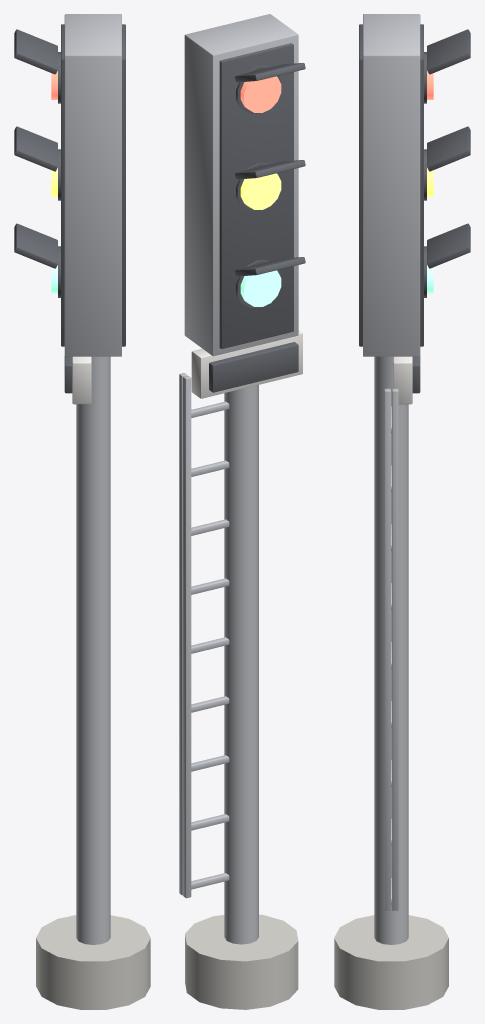
File: th41_signal.glb
3 renders of one model, left to right at view 1: azimuth 90°, elevation 25°; view 2: azimuth 210°, elevation 25°; view 3: azimuth 270°, elevation 25°, orthographic.
Parts seen in each view (by area): view 1: Cube.012, Cylinder, Cylinder.001, Cube.011, Cube.013, Cube.014, Cube.015, Cube.016; view 2: Cylinder, Cube.011, Cube.012, Cylinder.001, Cube.010, Cube.017, Cube.009, Cube.016, Cylinder.004, Cylinder.006, Cylinder.002, Cube.014 (+11 smaller); view 3: Cube.012, Cylinder, Cylinder.001, Cube.009, Cube.010, Cube.011, Cube.013, Cube.014, Cube.015, Cube.016.
Part boxes in pixels (box(x1,y1,x2,y2)): Cube.012: box(64, 14, 121, 356); Cylinder: box(76, 356, 110, 944); Cylinder.001: box(36, 915, 150, 1009); Cube.011: box(61, 24, 125, 346); Cube.013: box(14, 29, 57, 74); Cube.014: box(14, 126, 57, 171); Cube.015: box(14, 223, 57, 268); Cube.016: box(72, 356, 91, 404); Cylinder: box(224, 385, 258, 944); Cube.011: box(219, 43, 293, 348); Cube.012: box(184, 14, 298, 356); Cylinder.001: box(185, 914, 298, 1009); Cube.010: box(183, 375, 191, 898); Cube.017: box(209, 342, 298, 392); Cube.009: box(179, 373, 187, 895); Cube.016: box(191, 330, 302, 398); Cylinder.004: box(240, 173, 281, 209); Cylinder.006: box(240, 270, 281, 306); Cylinder.002: box(240, 76, 281, 112); Cube.014: box(235, 160, 305, 179); Cube.012: box(363, 14, 420, 356); Cylinder: box(374, 356, 408, 944); Cylinder.001: box(334, 915, 448, 1009); Cube.009: box(384, 388, 390, 910); Cube.010: box(392, 388, 398, 910); Cube.011: box(359, 24, 423, 346); Cube.013: box(427, 29, 470, 74); Cube.014: box(427, 126, 470, 171); Cube.015: box(427, 223, 470, 268); Cube.016: box(393, 356, 412, 404).
Size of the model in its own units: 0.6675 by 5.49 by 0.7144.
